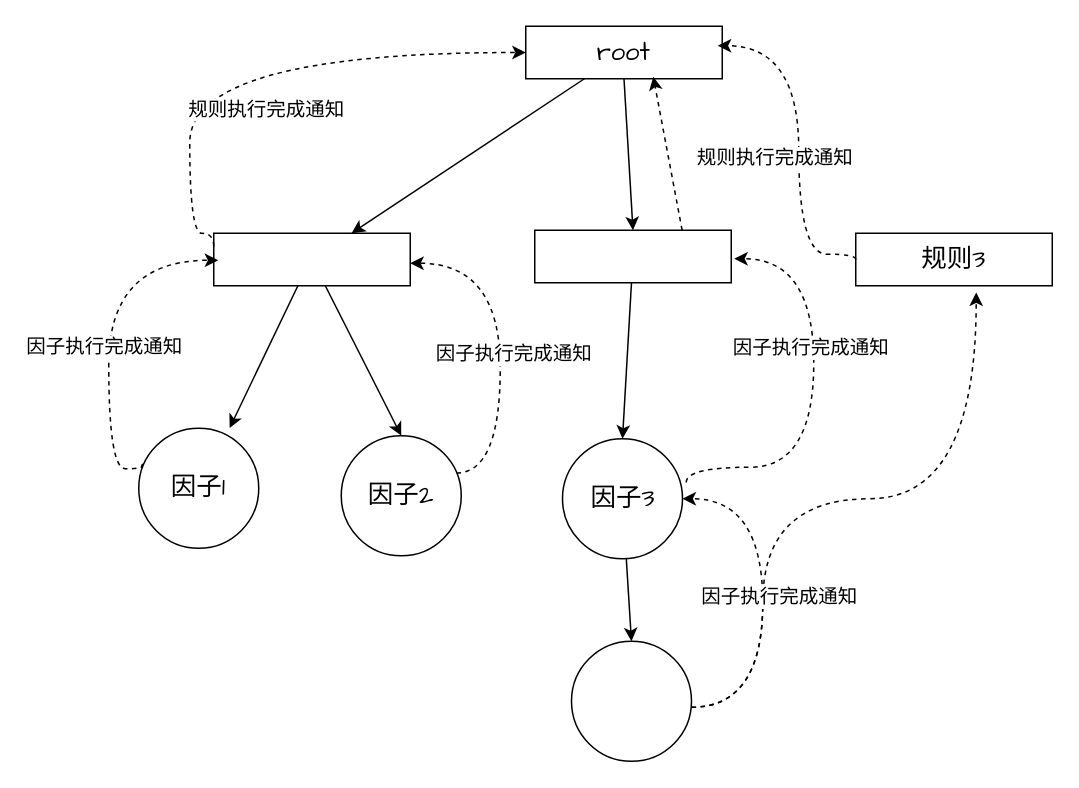
This 1079x788 diagram has some shape labels left out. Here are the shapes that lost their labels. From the top down, the centre of each, then its label:
At (x=311, y=259): "规则1".
At (x=632, y=256): "规则2".
At (x=631, y=700): "因子4".
